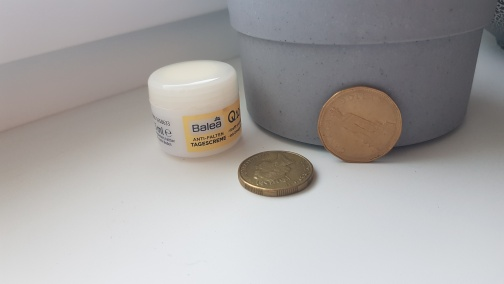coin: (317, 84, 403, 164), (237, 150, 314, 197)
